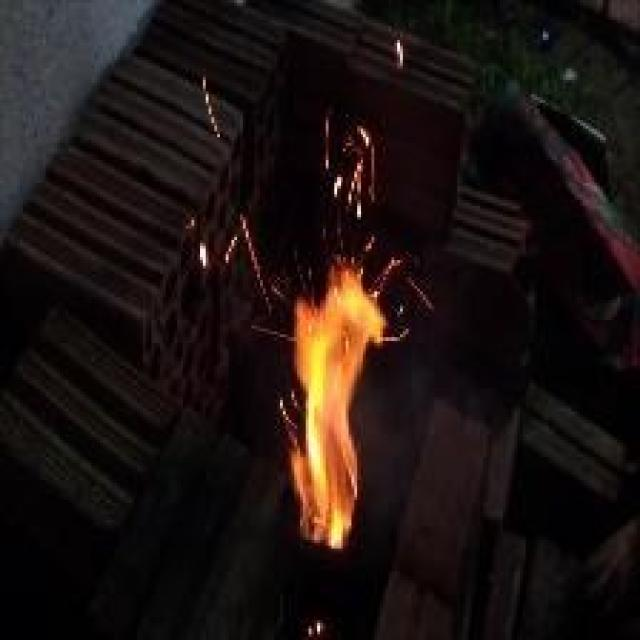fire: (250, 190, 407, 541)
